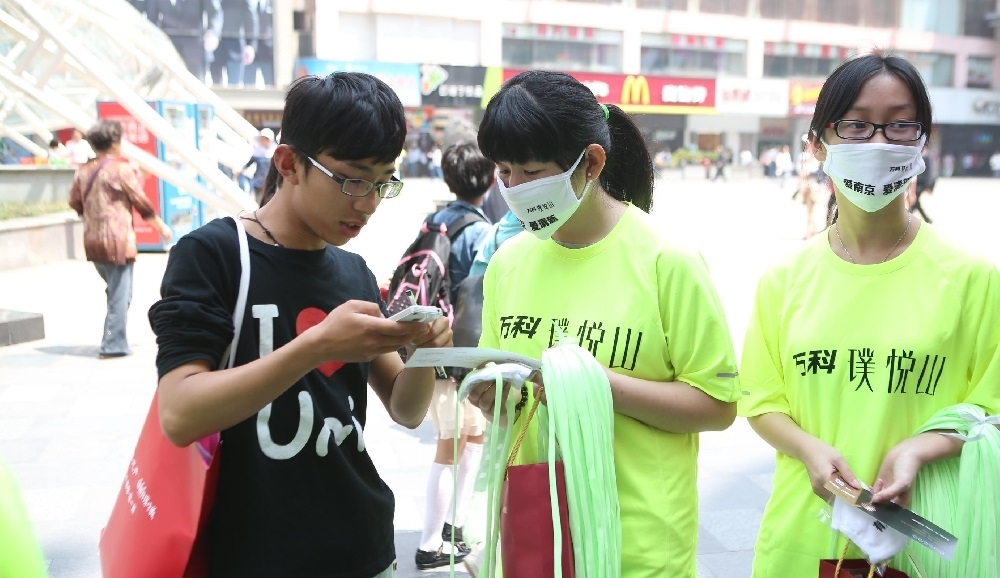face: (306, 130, 397, 246)
face_mask: (822, 77, 923, 206), (497, 153, 568, 232)
